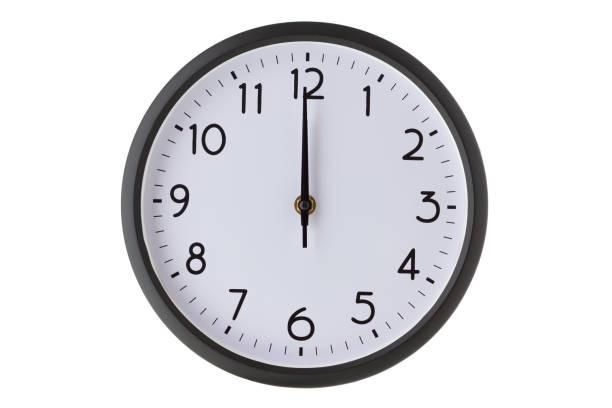clock: (111, 20, 492, 380)
